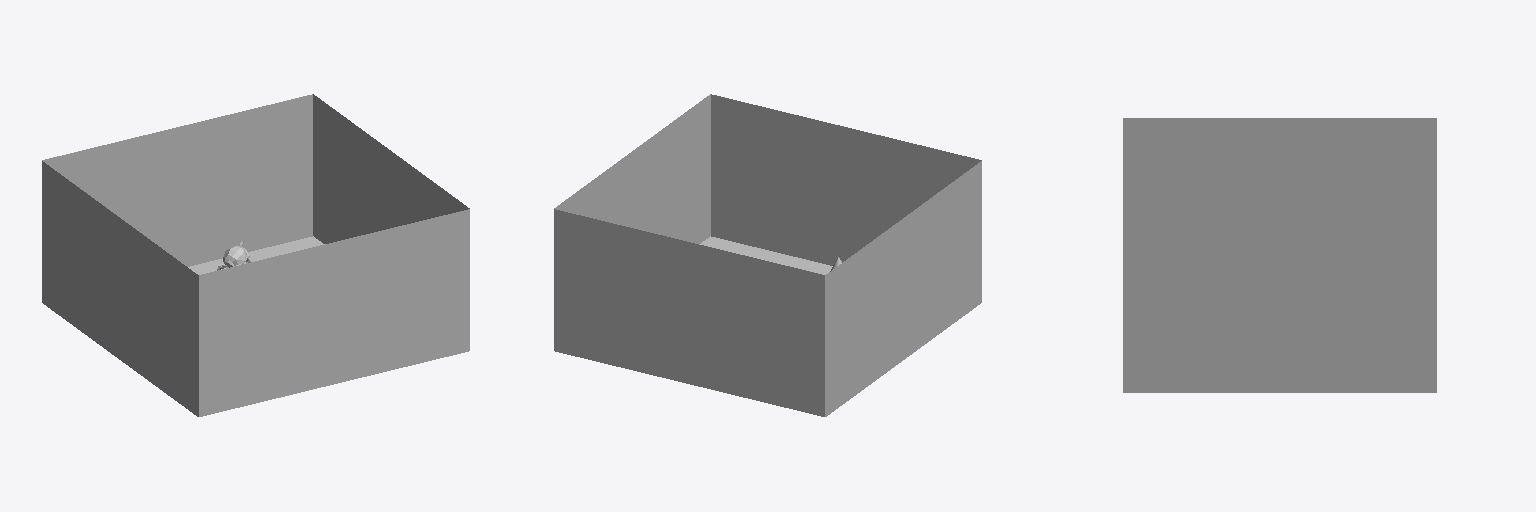
File: room3.obj
3 views of the same model, side by side, from view 1: azimuth 30°, elevation 25°; view 2: azimuth 150°, elevation 25°; view 3: azimuth 270°, elevation 25° (orthographic).
Parts seen in each view (by area): view 1: Cube, Plane; view 2: Cube, Plane; view 3: Cube.
Boxes of the visible parts, x1=… form: Cube: x1=42, y1=94, x2=469, y2=416; Plane: x1=188, y1=236, x2=324, y2=274; Cube: x1=554, y1=94, x2=981, y2=416; Plane: x1=699, y1=236, x2=832, y2=274; Cube: x1=1123, y1=118, x2=1436, y2=392.
Size of the model in its own units: 4 by 2.01 by 4.